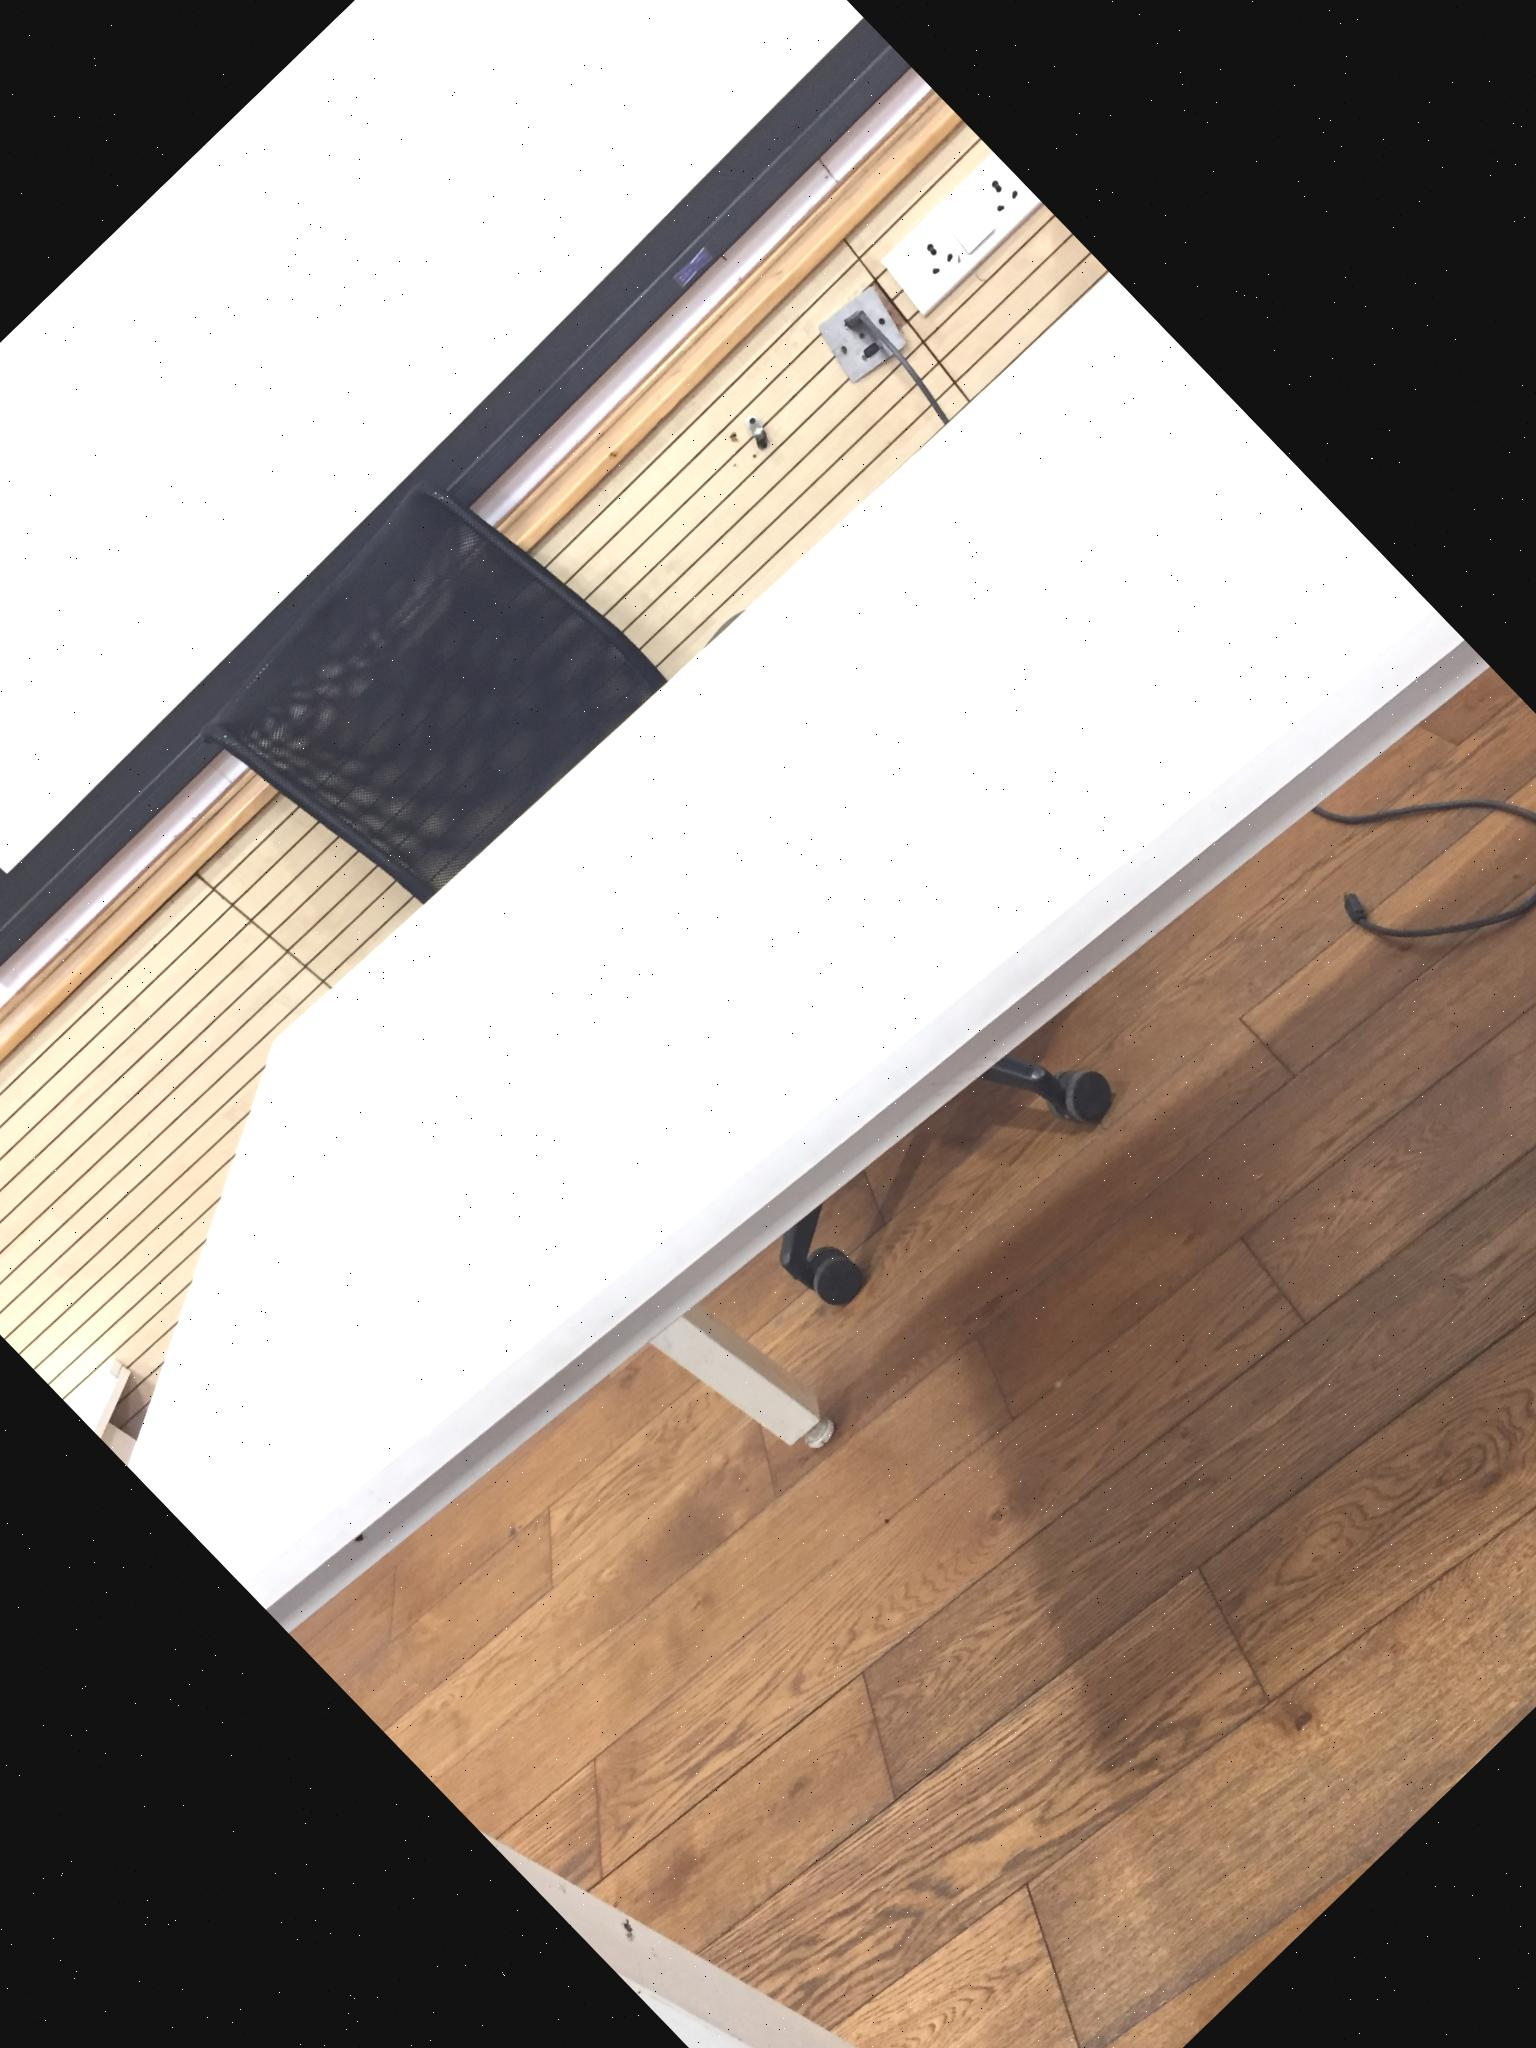chair: (176, 419, 1133, 1388)
